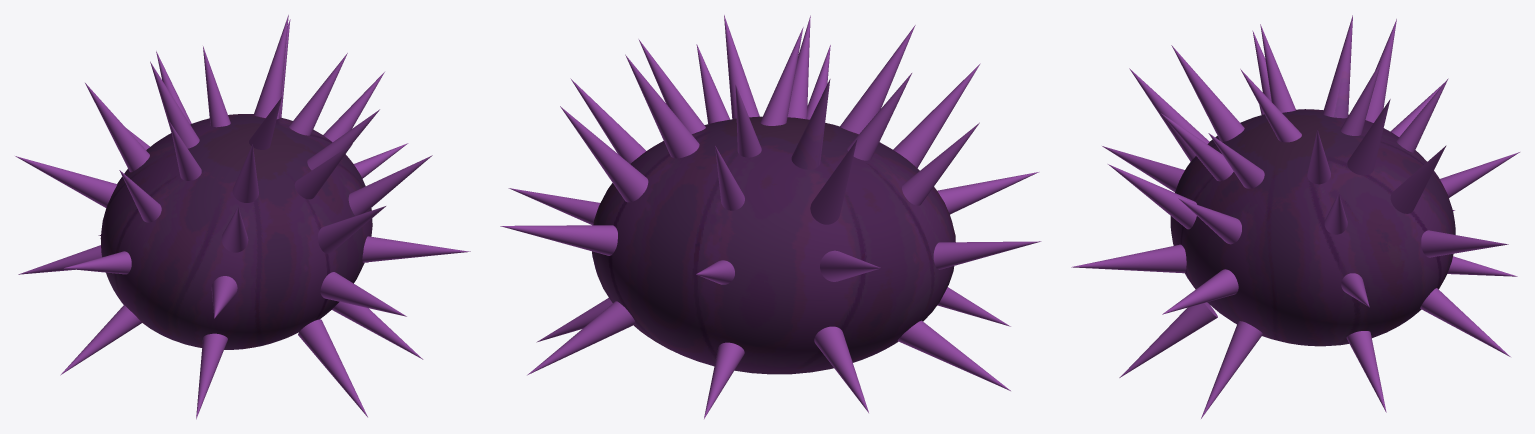
Rendered from urchin.fbx.
3 views of the same model, side by side, from view 1: azimuth 30°, elevation 25°; view 2: azimuth 150°, elevation 25°; view 3: azimuth 270°, elevation 25° (orthographic). The views are drawn at different scales.
Parts seen in each view (by area): view 1: node_id105 (×6), node_id157 (×4), node_id123 (×4), node_id151 (×4), node_id184, node_id185, node_id183, node_id182, node_id171, node_id181, node_id186, node_id193 (+1 smaller); view 2: node_id105 (×9), node_id151 (×4), node_id123 (×4), node_id171 (×4), node_id157 (×2), node_id193, node_id181, node_id182, node_id186, node_id180, node_id185, node_id179; view 3: node_id105 (×8), node_id157 (×4), node_id171 (×4), node_id123 (×3), node_id183, node_id151 (×2), node_id184, node_id179, node_id193, node_id185, node_id186, node_id182 (+2 smaller).
Boxes of the visible parts, x1,y1,x2,y2 form: node_id105 (×6): (100, 15, 372, 419); node_id157 (×4): (294, 144, 406, 417); node_id123 (×4): (15, 61, 199, 274); node_id151 (×4): (60, 121, 201, 375); node_id184: (362, 236, 470, 262); node_id185: (348, 155, 432, 215); node_id183: (332, 302, 423, 359); node_id182: (289, 53, 347, 135); node_id171: (203, 46, 230, 127); node_id181: (323, 72, 384, 142); node_id186: (307, 109, 379, 170); node_id193: (249, 97, 281, 149); node_id105 (×9): (500, 25, 1038, 375); node_id151 (×4): (847, 73, 1041, 390); node_id123 (×4): (791, 79, 881, 412); node_id171 (×4): (696, 84, 761, 418); node_id157 (×2): (787, 15, 830, 119); node_id193: (760, 27, 803, 125); node_id181: (570, 78, 645, 163); node_id182: (638, 39, 705, 134); node_id186: (724, 15, 759, 119); node_id180: (508, 188, 600, 225); node_id185: (696, 44, 730, 123); node_id179: (536, 298, 612, 342); node_id105 (×8): (1102, 45, 1510, 356); node_id157 (×4): (1071, 113, 1233, 377); node_id171 (×4): (1340, 60, 1519, 276); node_id123 (×3): (1322, 15, 1444, 136); node_id183: (1201, 321, 1262, 418); node_id151 (×2): (1252, 24, 1295, 112); node_id184: (1162, 269, 1238, 314); node_id179: (1346, 331, 1386, 412); node_id193: (1240, 69, 1301, 142); node_id185: (1178, 198, 1241, 244); node_id186: (1208, 133, 1264, 188); node_id182: (1307, 129, 1330, 184).
Bounding box in the file's own units: 0.9731 × 0.6973 × 0.9157.
3 materials, 3 textured.
